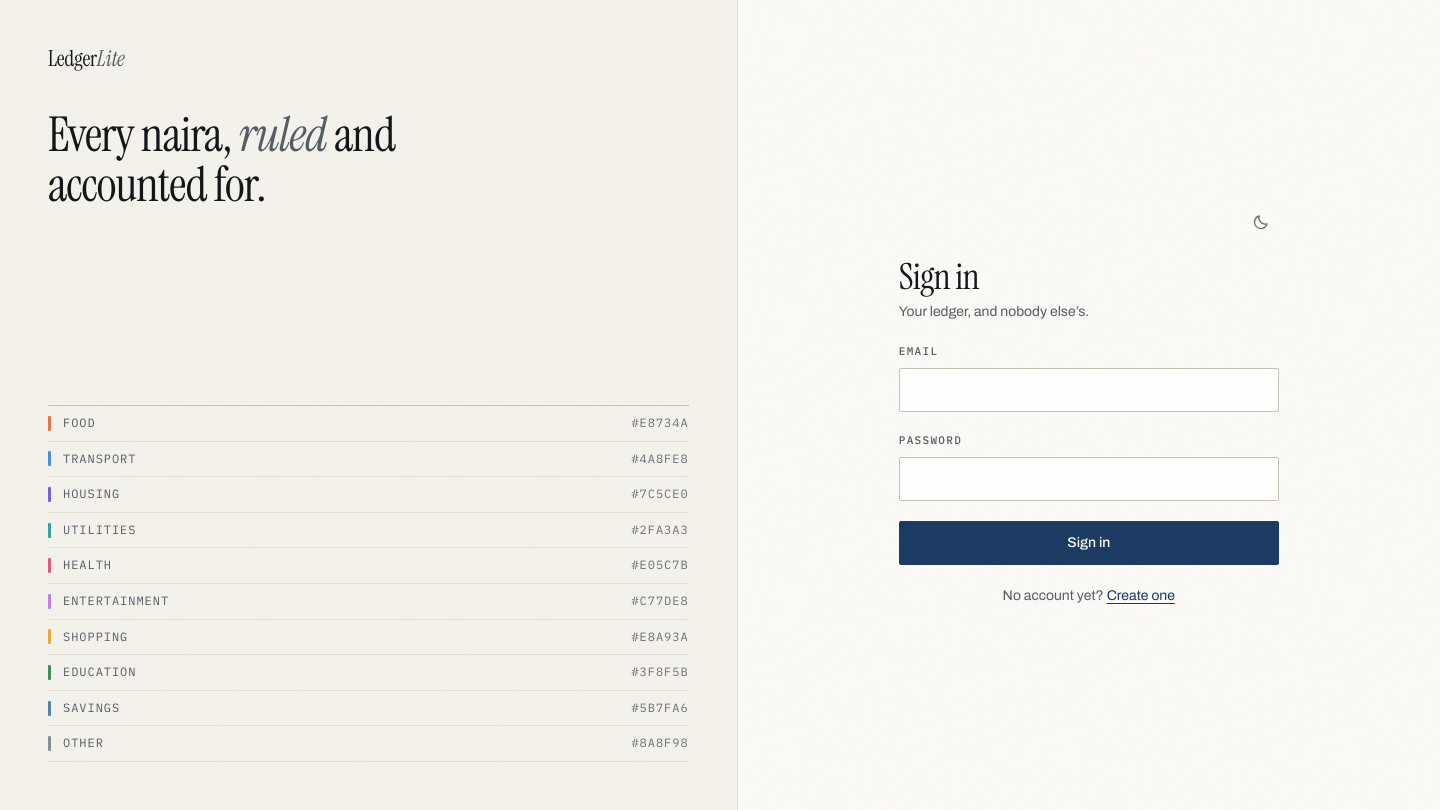
Test: signing up › creates an account and drops straight into the app
Check: the heading "Sign in" is shown, box [899,253,979,300]
Click the link "Create one". click: (1141, 595)
box: [1107,588,1175,603]
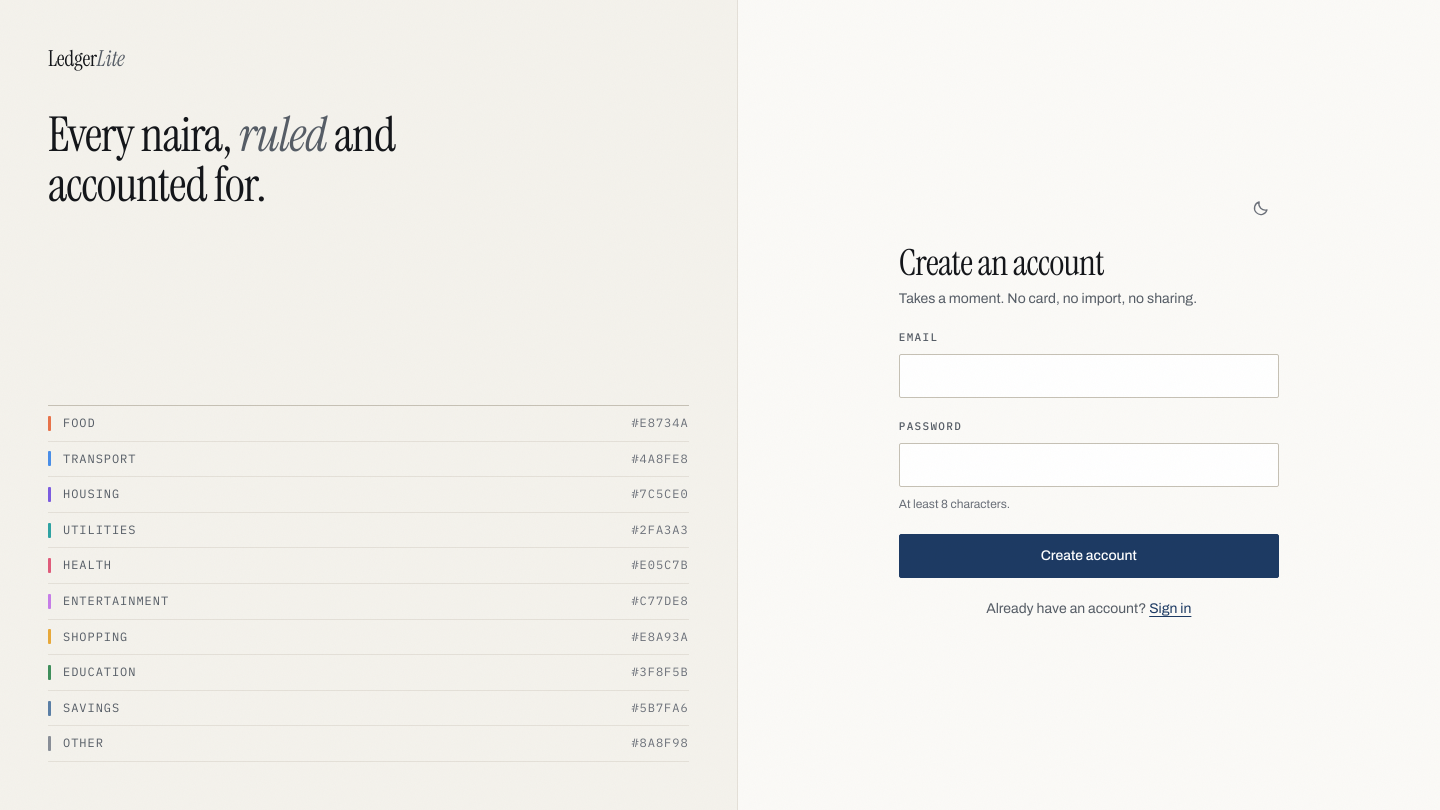
Check: the heading "Create an account" is shown, box [899,239,1104,286]
Type "brand.new@example.com" into the field labelled "Email". click: (1089, 376)
box: [899,354,1279,398]
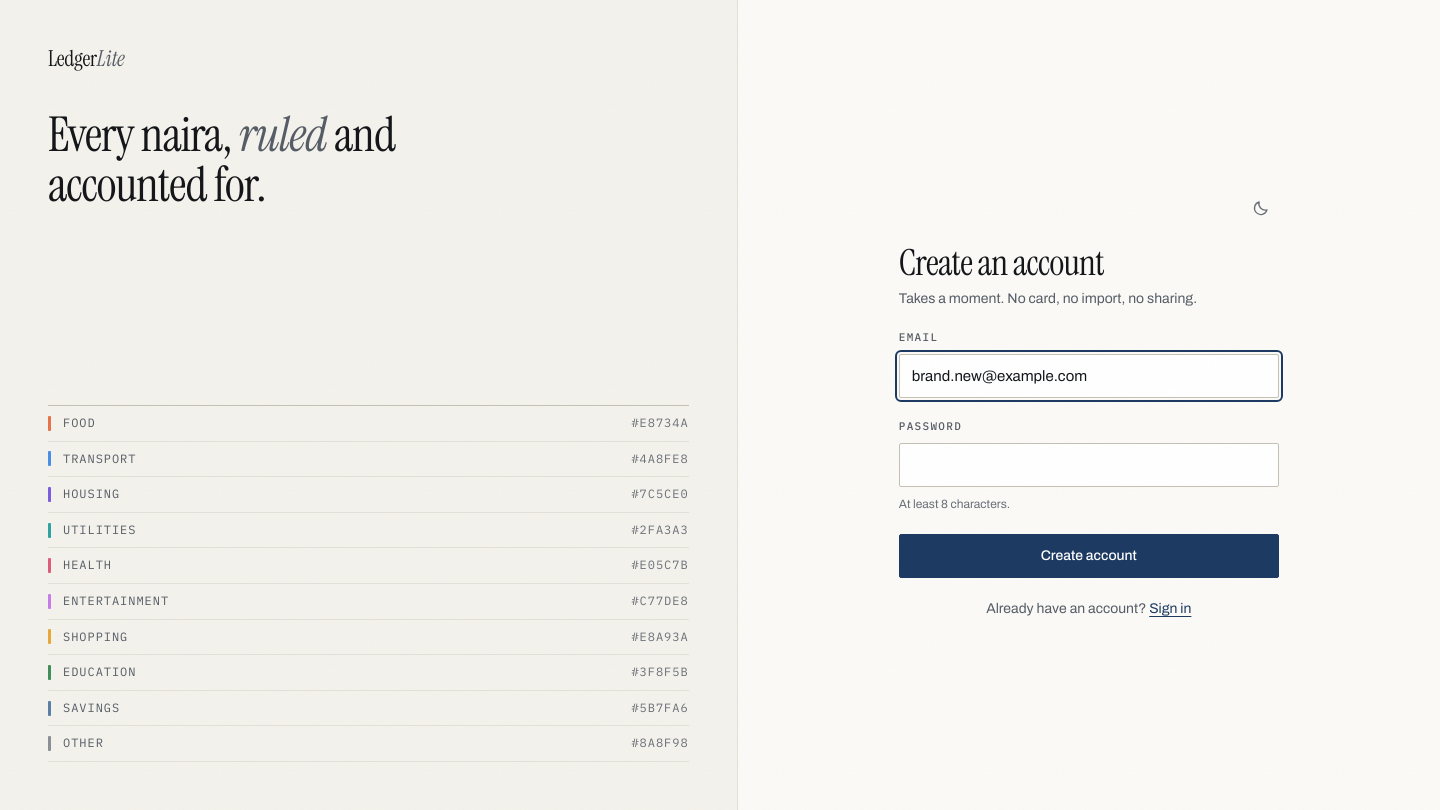
Type "a good password" into the password field labelled "Password". click: (1089, 465)
box: [899,443,1279,487]
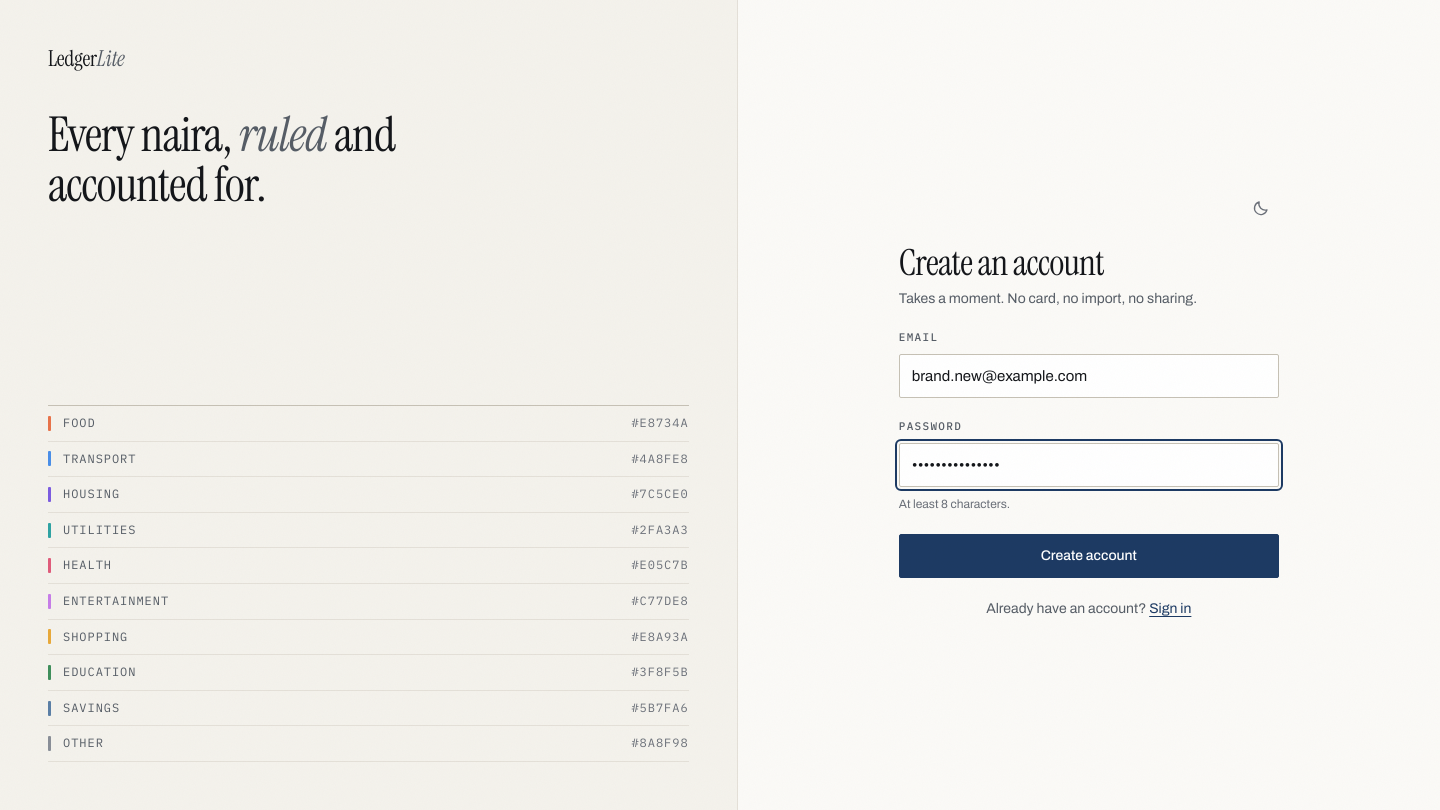
Click the button "Create account". click: (1089, 556)
box: [899,534,1279,578]
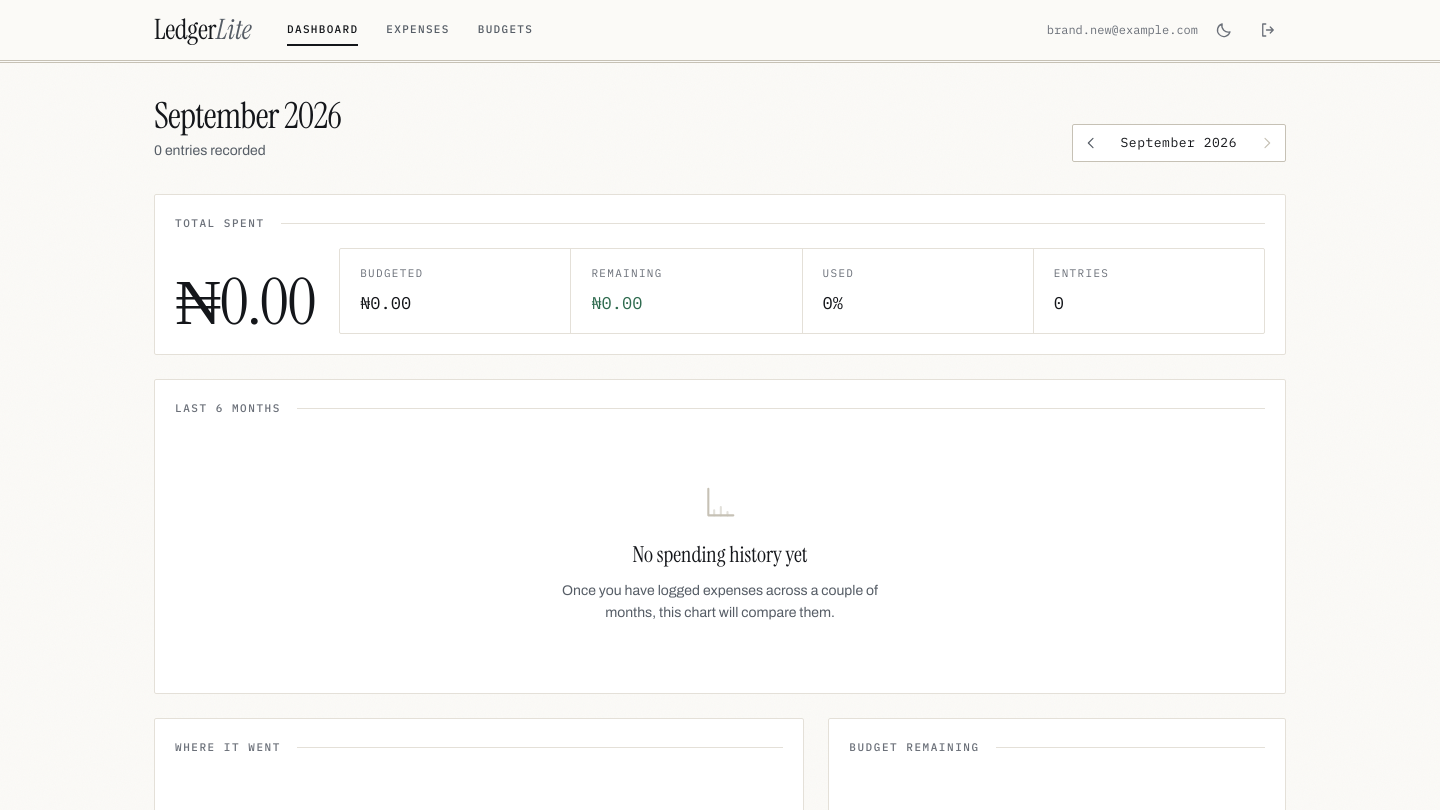
Check: the navigation bar named "Main" is shown, box [287,22,533,36]
